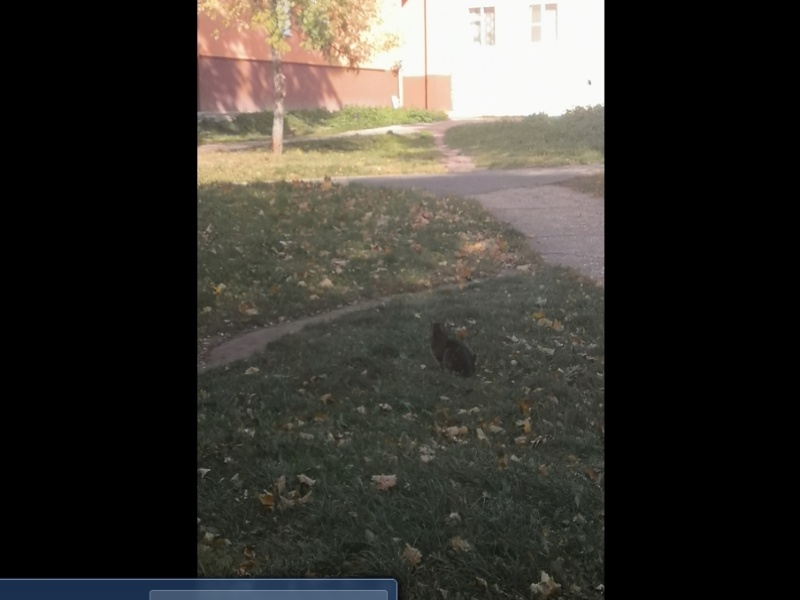cat: (429, 319, 480, 384)
